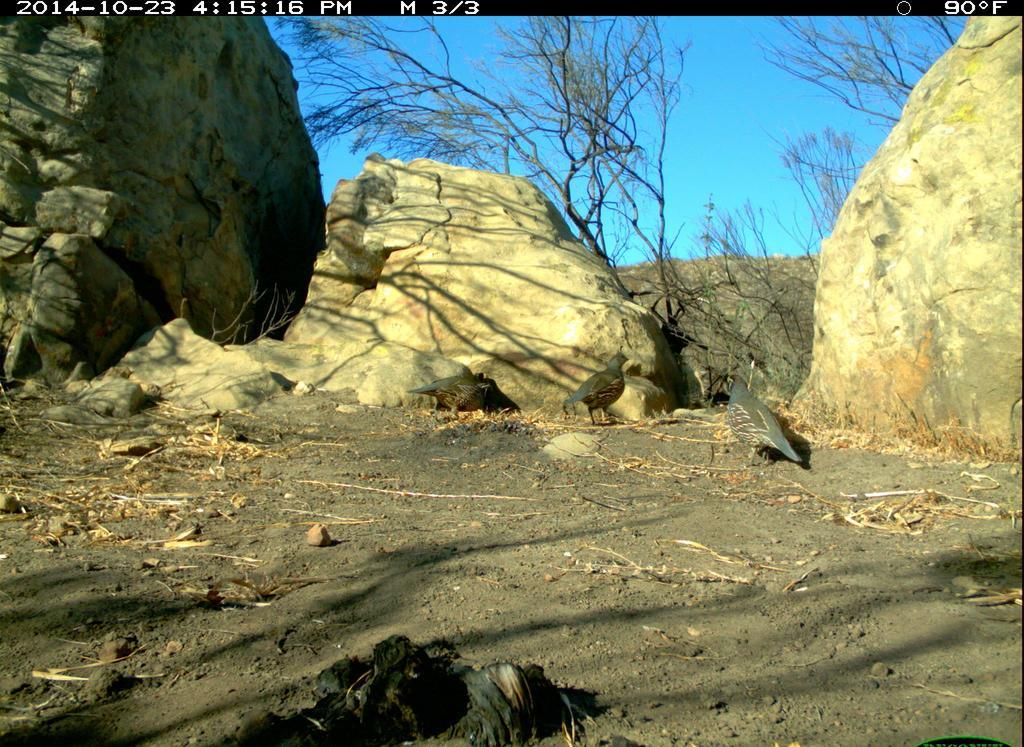bird: (719, 365, 813, 472), (555, 346, 641, 440)
